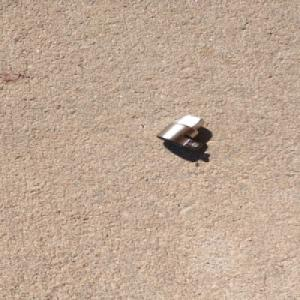MetalPart: (154, 114, 207, 153)
